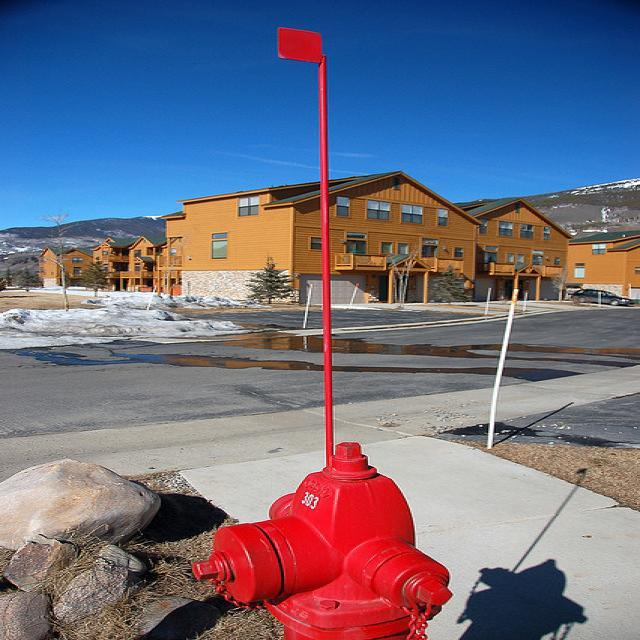fire_hydrant: (190, 441, 456, 631)
